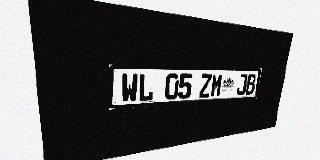0: (164, 74, 179, 100)
5: (178, 74, 192, 99)
B: (245, 74, 256, 95)
J: (236, 74, 248, 95)
L: (138, 73, 154, 102)
M: (210, 74, 223, 97)
W: (121, 73, 138, 103)
Z: (199, 74, 212, 98)
